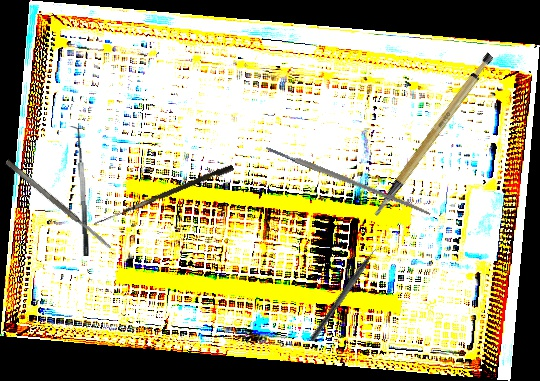Chopper: (308, 238, 389, 348)
Hook Surgical: (93, 161, 235, 232)
Scalpel Handle: (349, 49, 514, 218), (265, 144, 432, 217)
Spatula Surgical: (4, 158, 113, 251), (67, 125, 91, 257)
